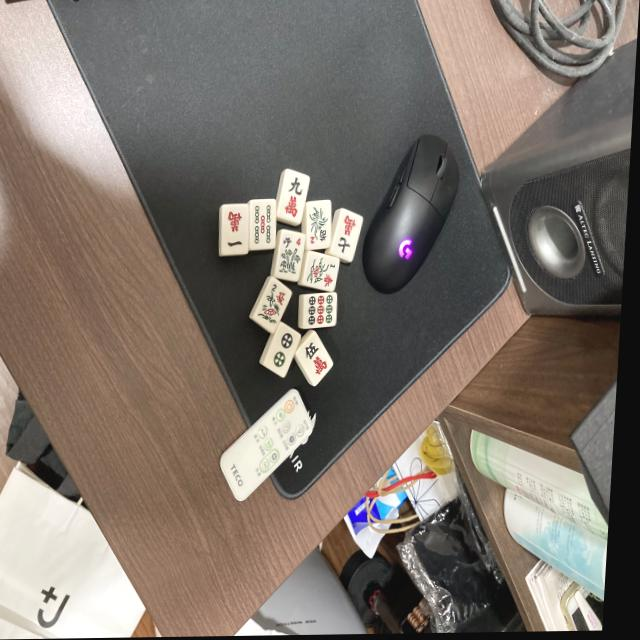f2: (304, 203, 333, 253)
f4: (275, 232, 304, 282)
ff1: (301, 252, 340, 293)
ff2: (251, 279, 293, 333)
m1: (219, 205, 251, 256)
m5: (296, 331, 337, 386)
m7: (329, 211, 363, 263)
m9: (278, 172, 311, 225)
s5: (249, 200, 278, 249)
t2: (260, 323, 302, 378)
t9: (302, 293, 338, 330)
